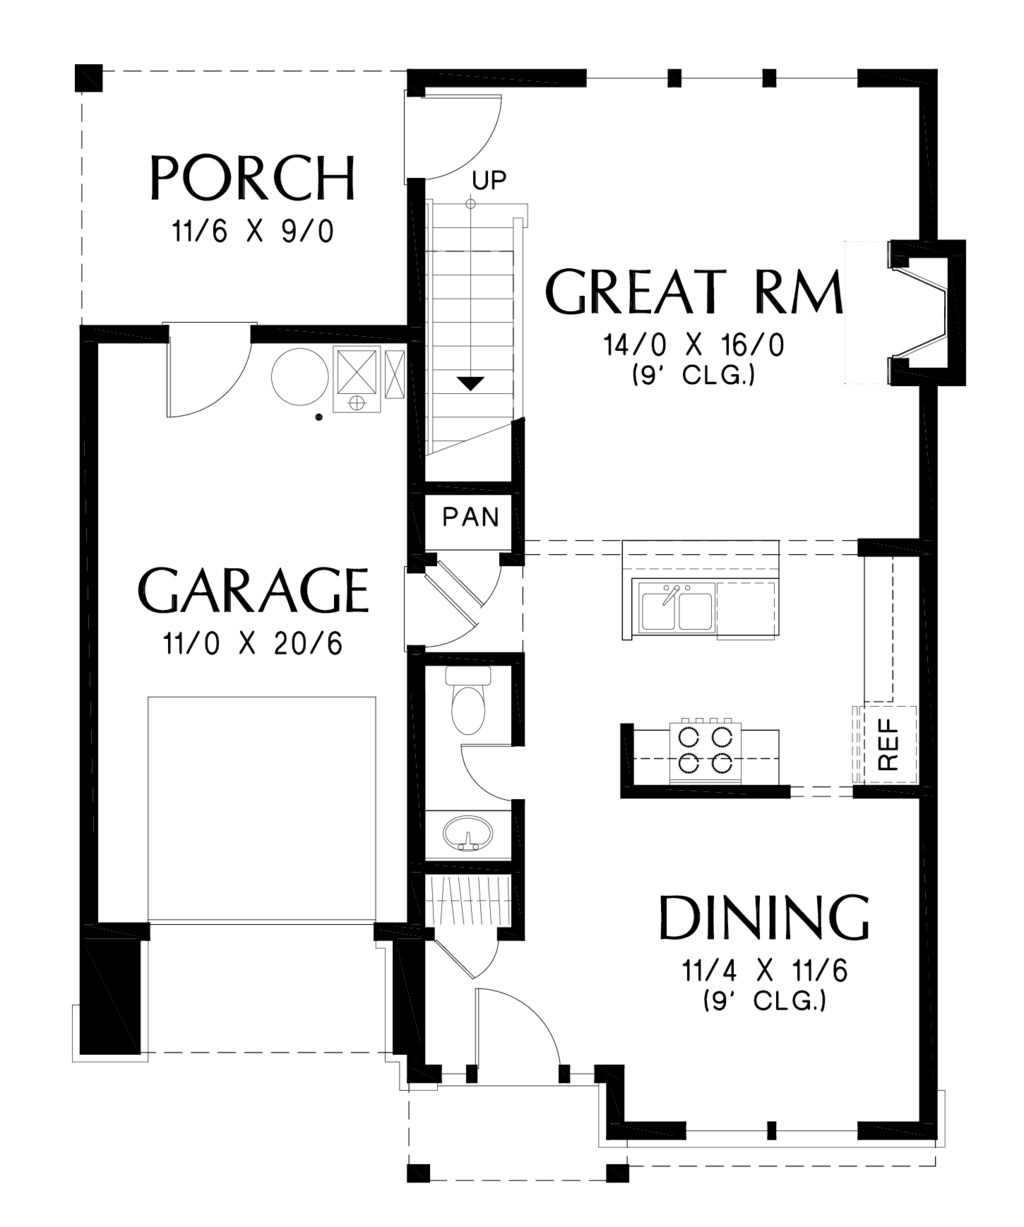door: (167, 324, 254, 427), (407, 97, 501, 190), (473, 991, 557, 1082), (399, 571, 482, 648), (440, 552, 508, 610), (457, 744, 525, 801), (435, 931, 505, 976)
kitchen_bar: (631, 722, 786, 786)
large_sink: (444, 661, 491, 742)
small_sink: (437, 807, 514, 857)
stairs: (420, 197, 525, 463)
